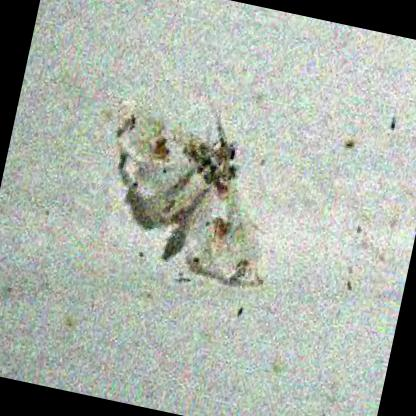leucinodes: (118, 98, 260, 283)
